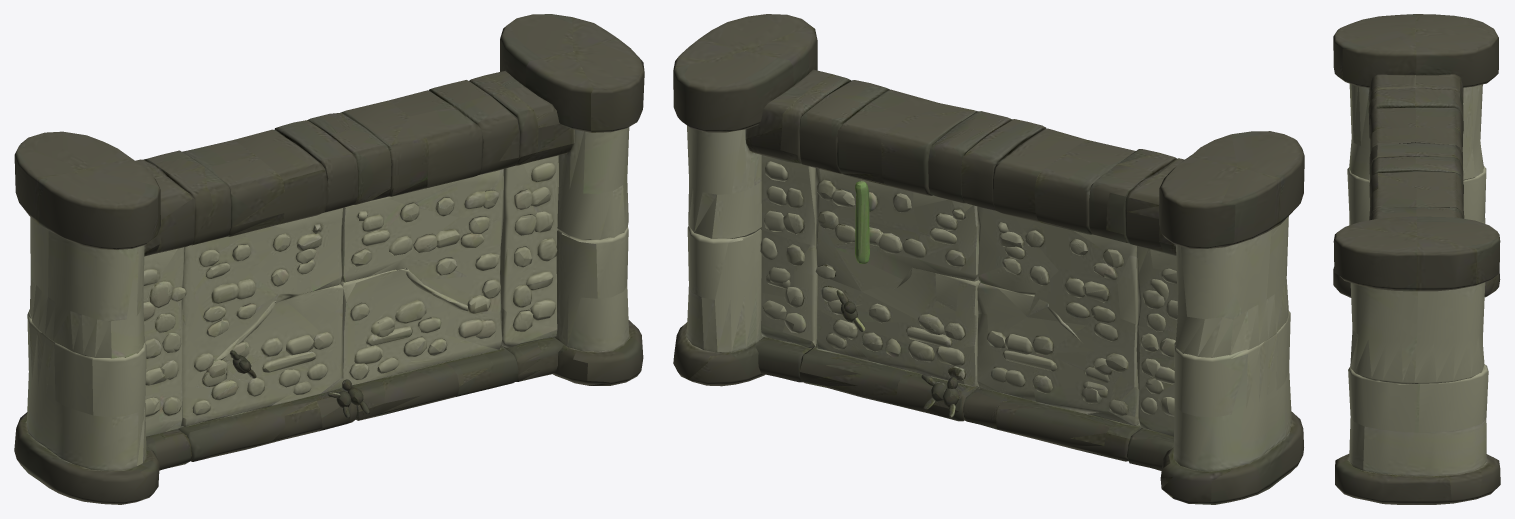
The model's file is jd_muro_pilastra.glb.
3 views of the same model, side by side, from view 1: azimuth 30°, elevation 25°; view 2: azimuth 150°, elevation 25°; view 3: azimuth 270°, elevation 25° (orthographic). The views are drawn at different scales.
Parts seen in each view (by area): view 1: mesh_node; view 2: mesh_node; view 3: mesh_node.
Part boxes in pixels (x1=…): mesh_node: x1=14, y1=14, x2=644, y2=504; mesh_node: x1=673, y1=14, x2=1304, y2=504; mesh_node: x1=1333, y1=14, x2=1500, y2=504.
Bounding box in the file's own units: 1 × 0.498 × 0.2979.
Materials: 1 (1 with a texture image).
